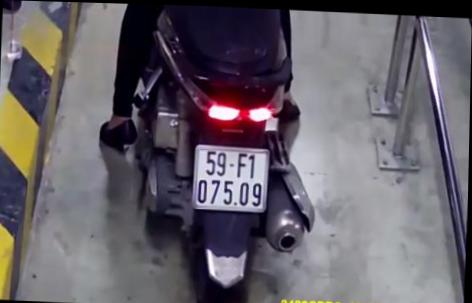LP: (191, 140, 271, 212)
